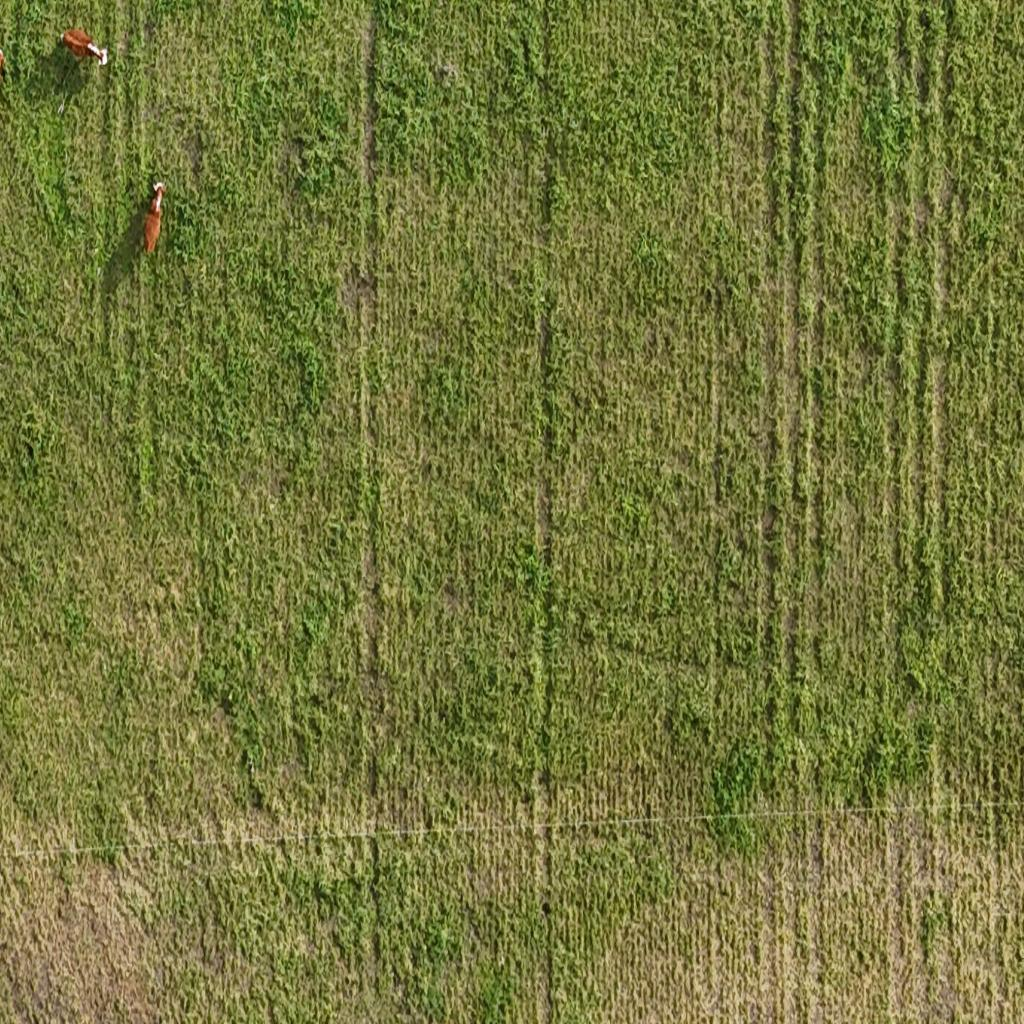cow: (59, 24, 114, 100), (141, 178, 168, 260)
